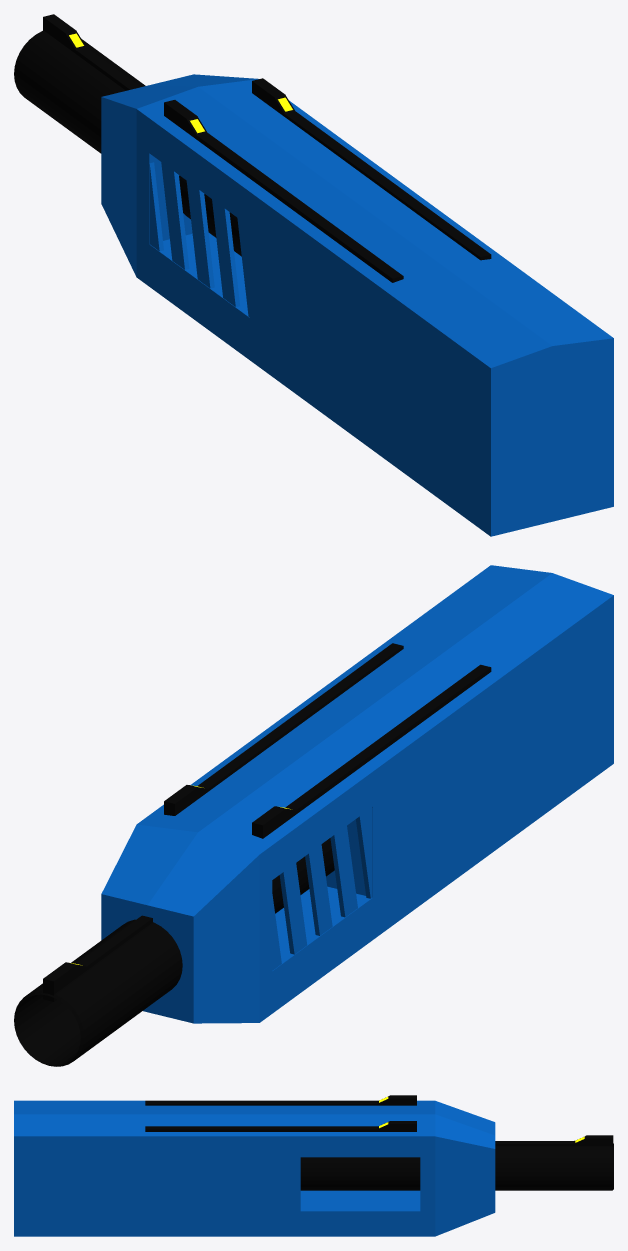
File: Weapon.fbx
3 views of the same model, one above another, from view 1: azimuth 30°, elevation 25°; view 2: azimuth 150°, elevation 25°; view 3: azimuth 270°, elevation 25° (orthographic). The views are drawn at different scales.
Visible parts, largest first — view 1: Cube.008; view 2: Cube.008; view 3: Cube.008.
Part boxes in pixels (<box>): Cube.008: <box>14,14,613,536</box>; Cube.008: <box>14,565,613,1066</box>; Cube.008: <box>14,1095,613,1236</box>.
Bounding box in the file's own units: 1.12 × 1.59 × 7.95.
